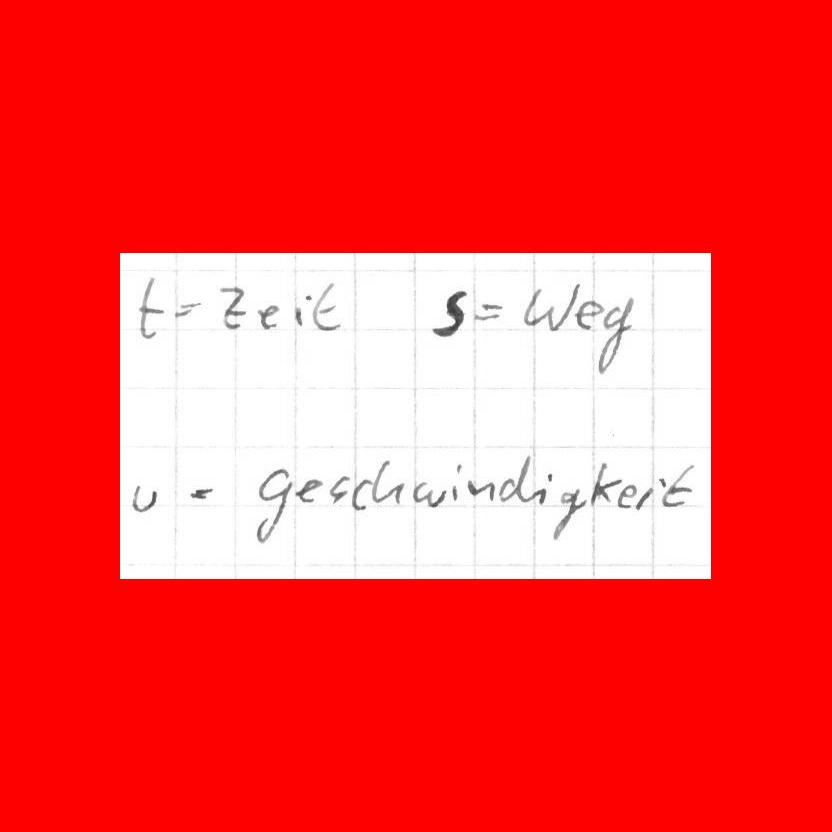Char: (249, 462, 294, 544), (594, 295, 636, 375), (521, 281, 581, 331), (427, 286, 471, 339), (549, 484, 586, 541), (137, 273, 168, 340), (496, 455, 532, 504), (660, 463, 698, 509), (372, 457, 405, 507), (311, 279, 342, 332), (218, 283, 249, 333), (588, 459, 620, 507), (127, 477, 162, 518), (633, 473, 667, 512), (409, 478, 447, 510), (289, 474, 323, 508), (470, 297, 507, 325), (573, 297, 603, 331), (324, 471, 352, 507), (465, 477, 496, 505), (183, 480, 218, 504), (351, 477, 373, 514), (256, 301, 282, 331), (533, 469, 554, 506), (293, 291, 312, 330), (616, 482, 639, 510), (172, 300, 204, 320), (451, 462, 464, 504)
